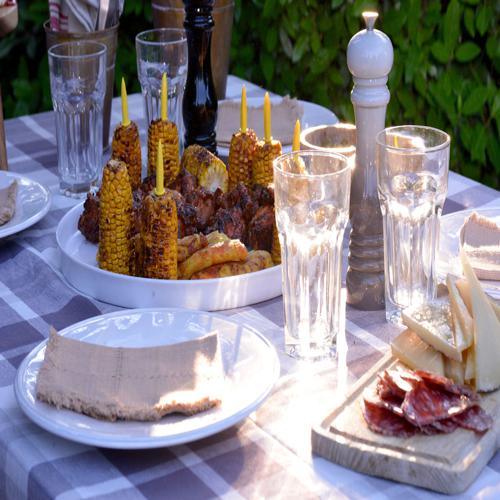vaso: (274, 154, 353, 363), (375, 127, 451, 329), (46, 42, 109, 195), (134, 29, 188, 140)
